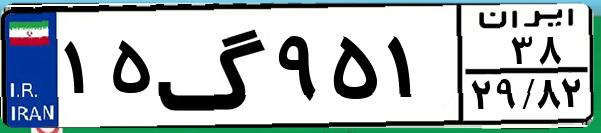1: (385, 28, 445, 110), (57, 26, 110, 100)
2: (560, 70, 590, 125), (470, 70, 495, 125)
3: (508, 27, 537, 80)
5: (330, 28, 385, 110), (110, 28, 156, 98)
8: (537, 27, 568, 80), (535, 70, 560, 125)
9: (270, 28, 330, 110), (495, 70, 520, 125)
گ: (156, 12, 270, 120)
